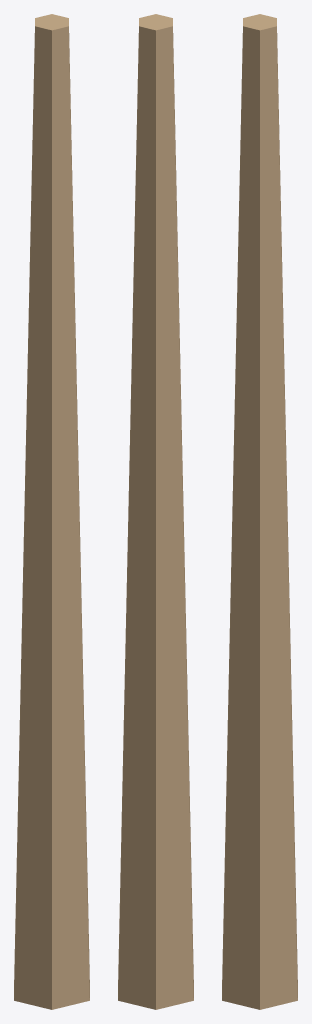
Rendered from prop-brush-handle-blank-br1.fbx.
3 views of the same model, side by side, from view 1: azimuth 90°, elevation 25°; view 2: azimuth 210°, elevation 25°; view 3: azimuth 270°, elevation 25° (orthographic).
Visible parts, largest first — view 1: prop-brush-handle-blank-br1; view 2: prop-brush-handle-blank-br1; view 3: prop-brush-handle-blank-br1.
Boxes of the visible parts, bbox=[...] form: prop-brush-handle-blank-br1: bbox=[14, 14, 89, 1009]; prop-brush-handle-blank-br1: bbox=[118, 14, 193, 1009]; prop-brush-handle-blank-br1: bbox=[222, 14, 297, 1009].
Size of the model in its own units: 1.8 by 22 by 1.56.
